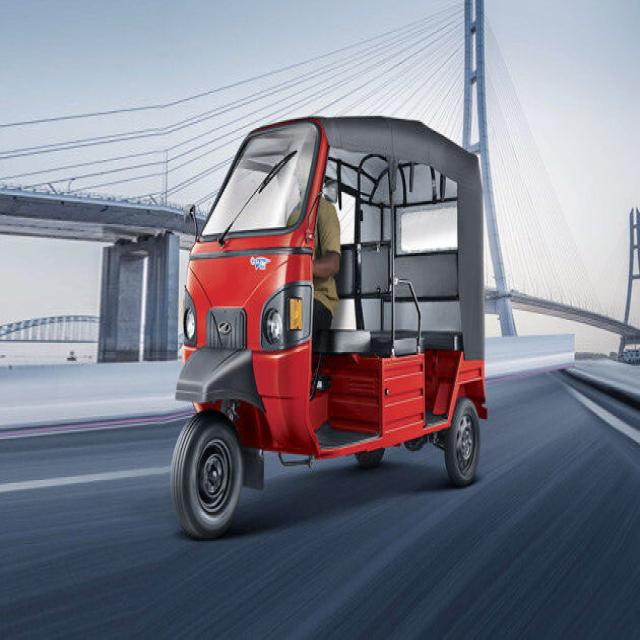autorickshaw: (173, 116, 487, 537)
